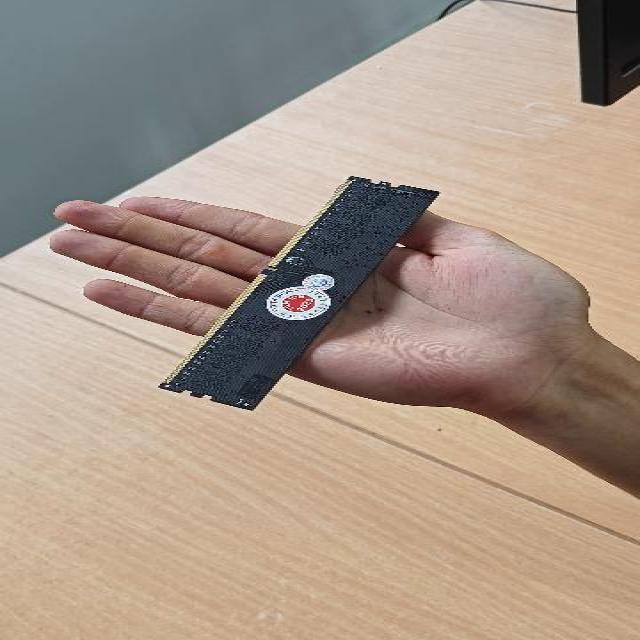RAM: (157, 158, 442, 412)
